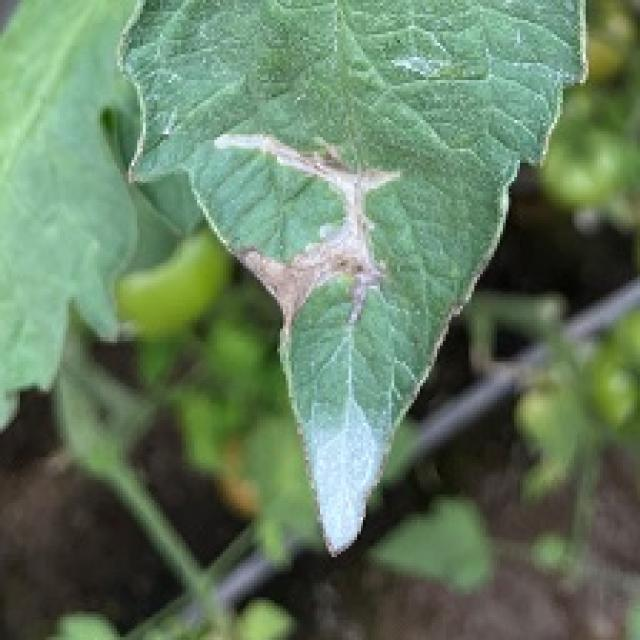Tuta absoluta: (212, 100, 425, 343)
